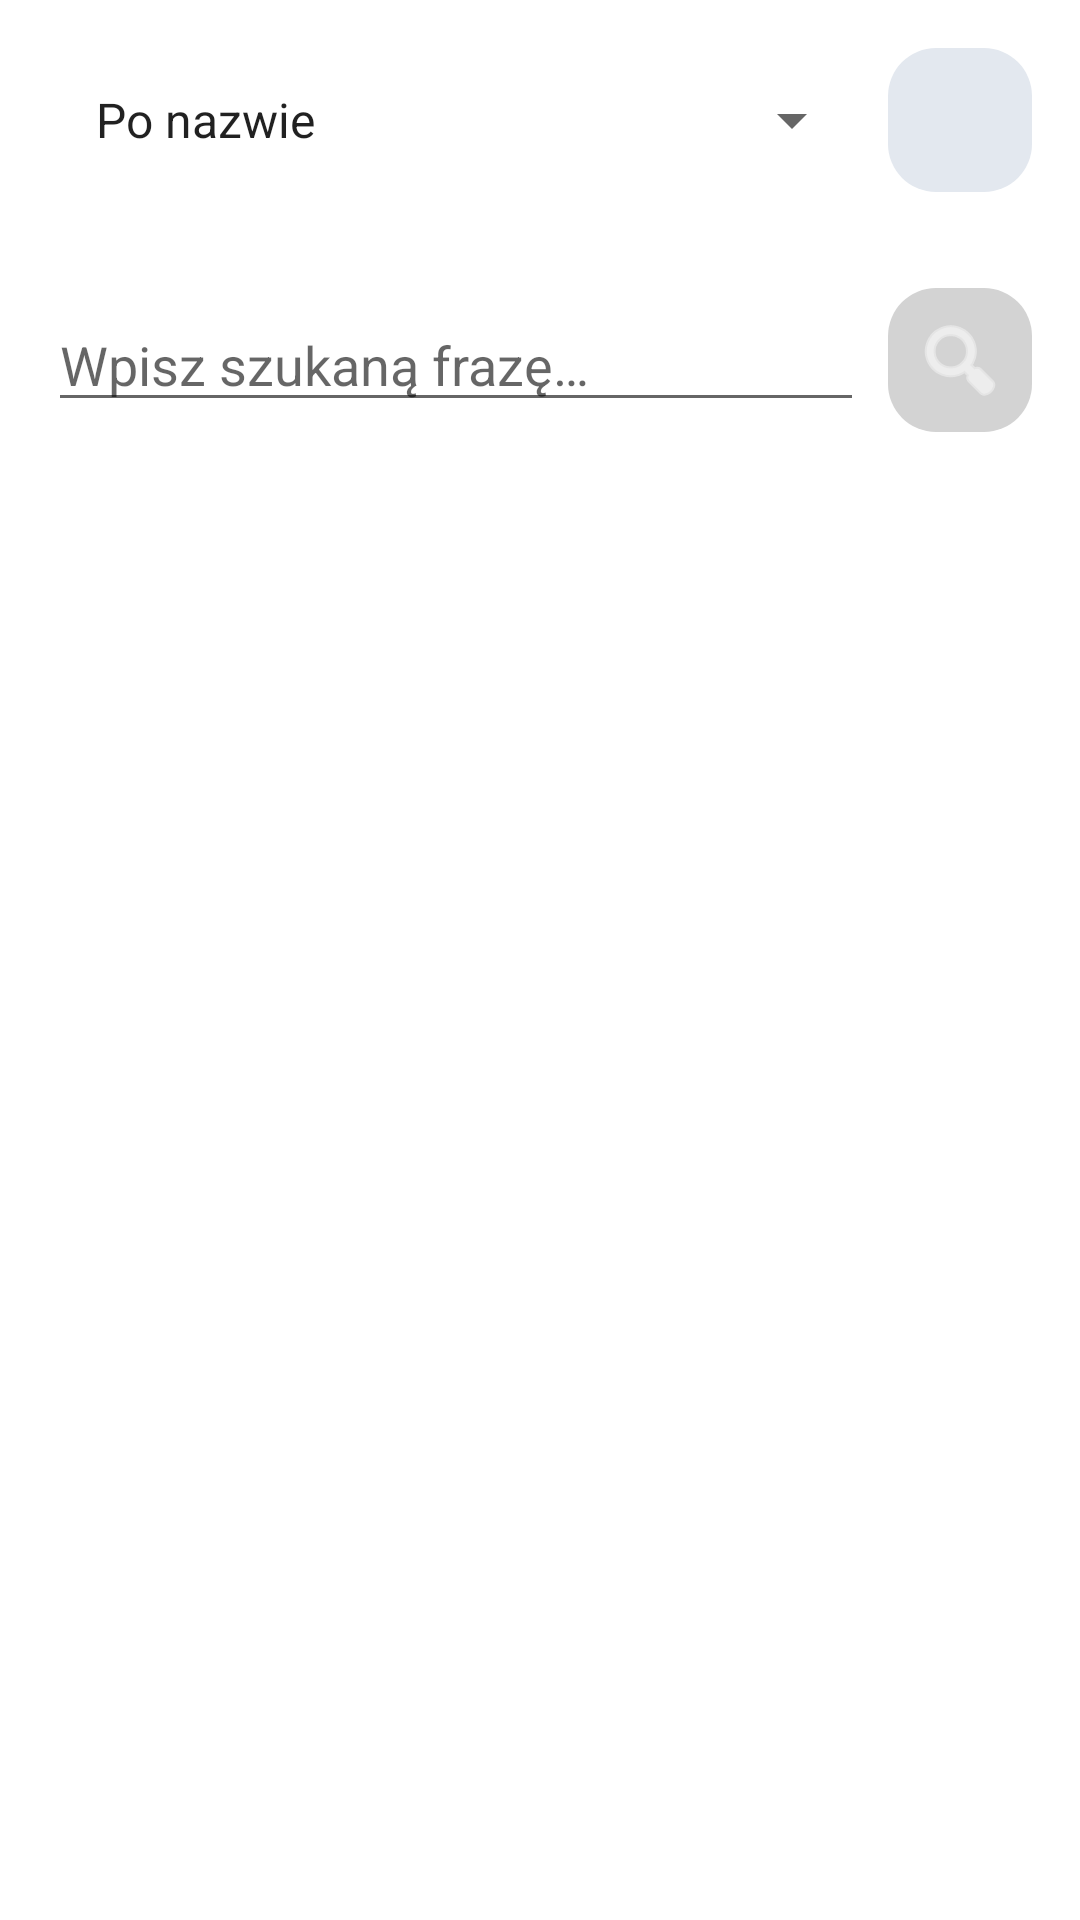

Icon bounding boxes for this 1080px x 1920px phone screenshot, format {"x1": x1, "y1": y1, "x2": x2, "y2": y2}:
search: {"x1": 888, "y1": 288, "x2": 1032, "y2": 432}
